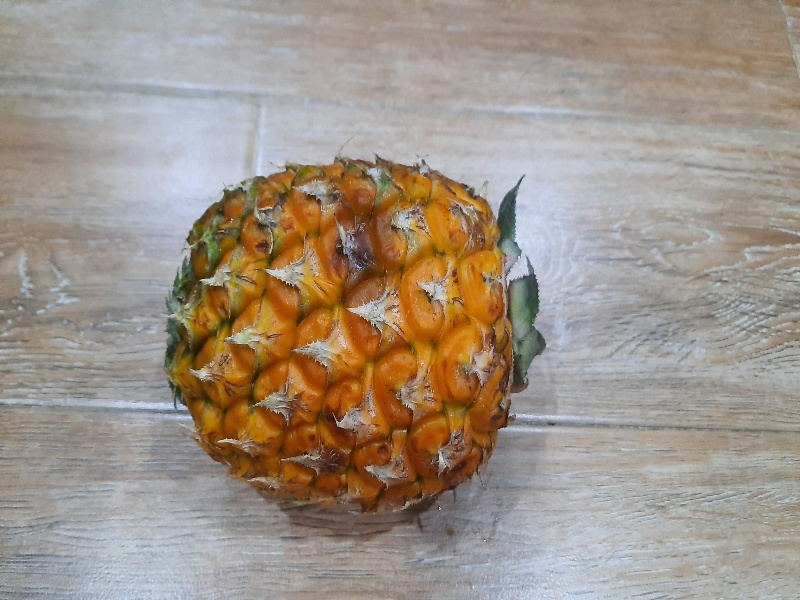fruit: (168, 154, 551, 529)
